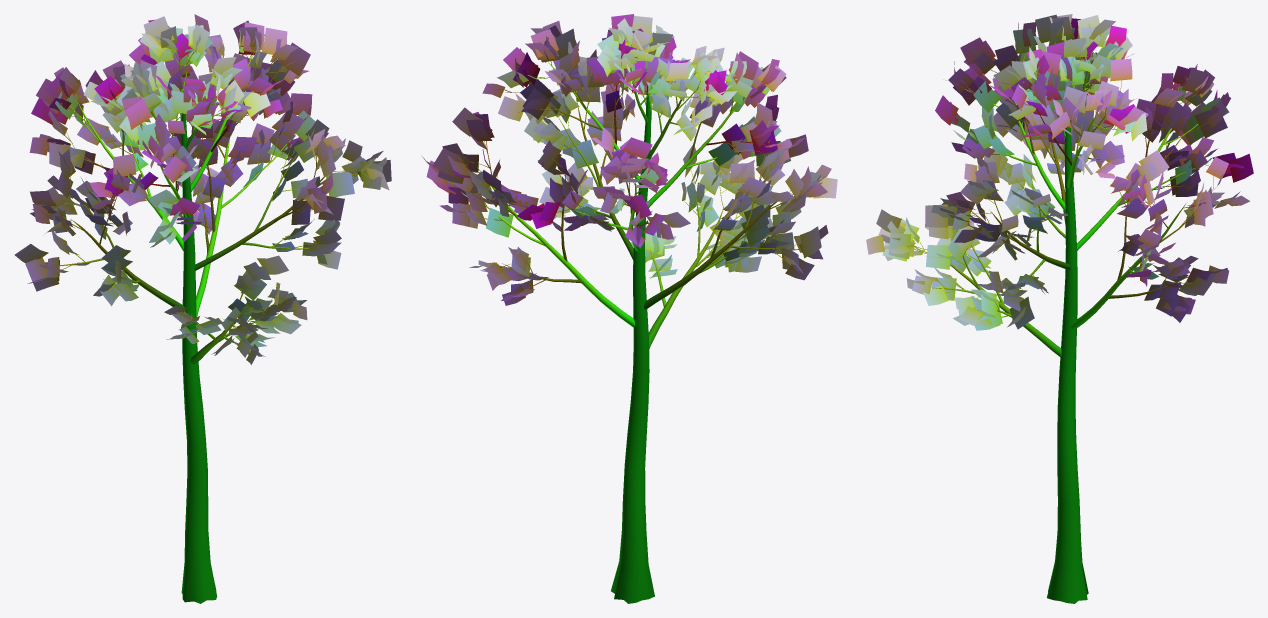
The model's file is quercus_cerris.glb.
3 renders of one model, left to right at view 1: azimuth 30°, elevation 25°; view 2: azimuth 150°, elevation 25°; view 3: azimuth 270°, elevation 25°, orthographic. The views are drawn at different scales.
Parts seen in each view (by area): view 1: quercus_cerris_lod0; view 2: quercus_cerris_lod0; view 3: quercus_cerris_lod0.
Boxes of the visible parts, box(x1,y1,x2,y2) form: quercus_cerris_lod0: box(14, 14, 391, 603); quercus_cerris_lod0: box(422, 14, 837, 603); quercus_cerris_lod0: box(866, 14, 1253, 603).
Size of what is drawn, in the model's own units: 11.09 by 17.47 by 10.79.
